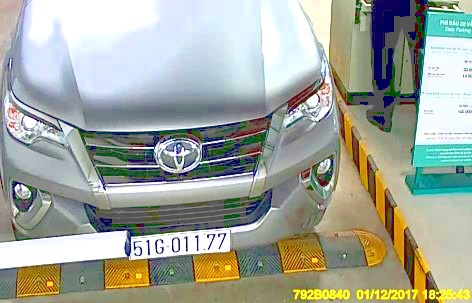plate: (127, 226, 238, 259)
